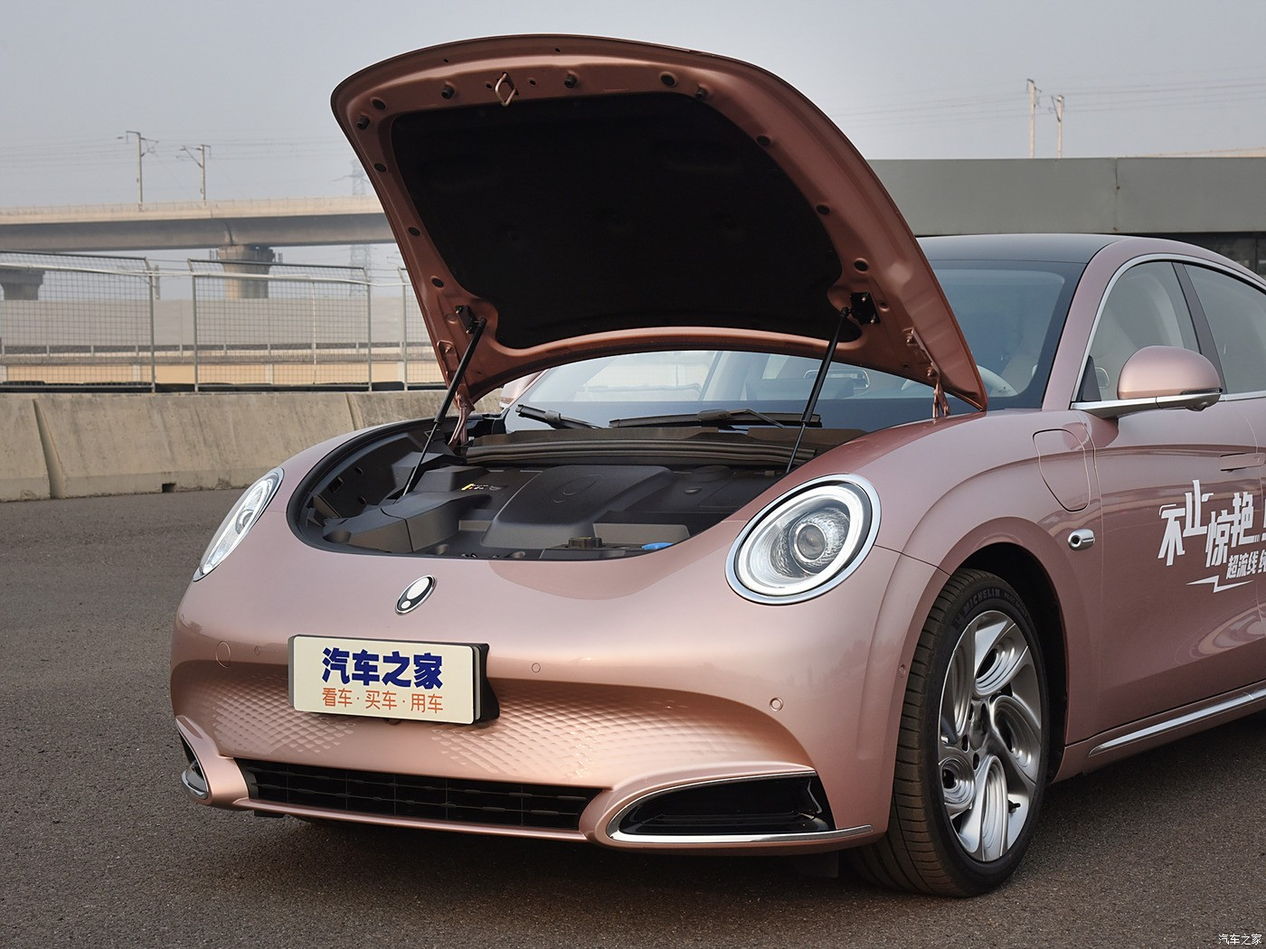ORA: (396, 576, 433, 614)
